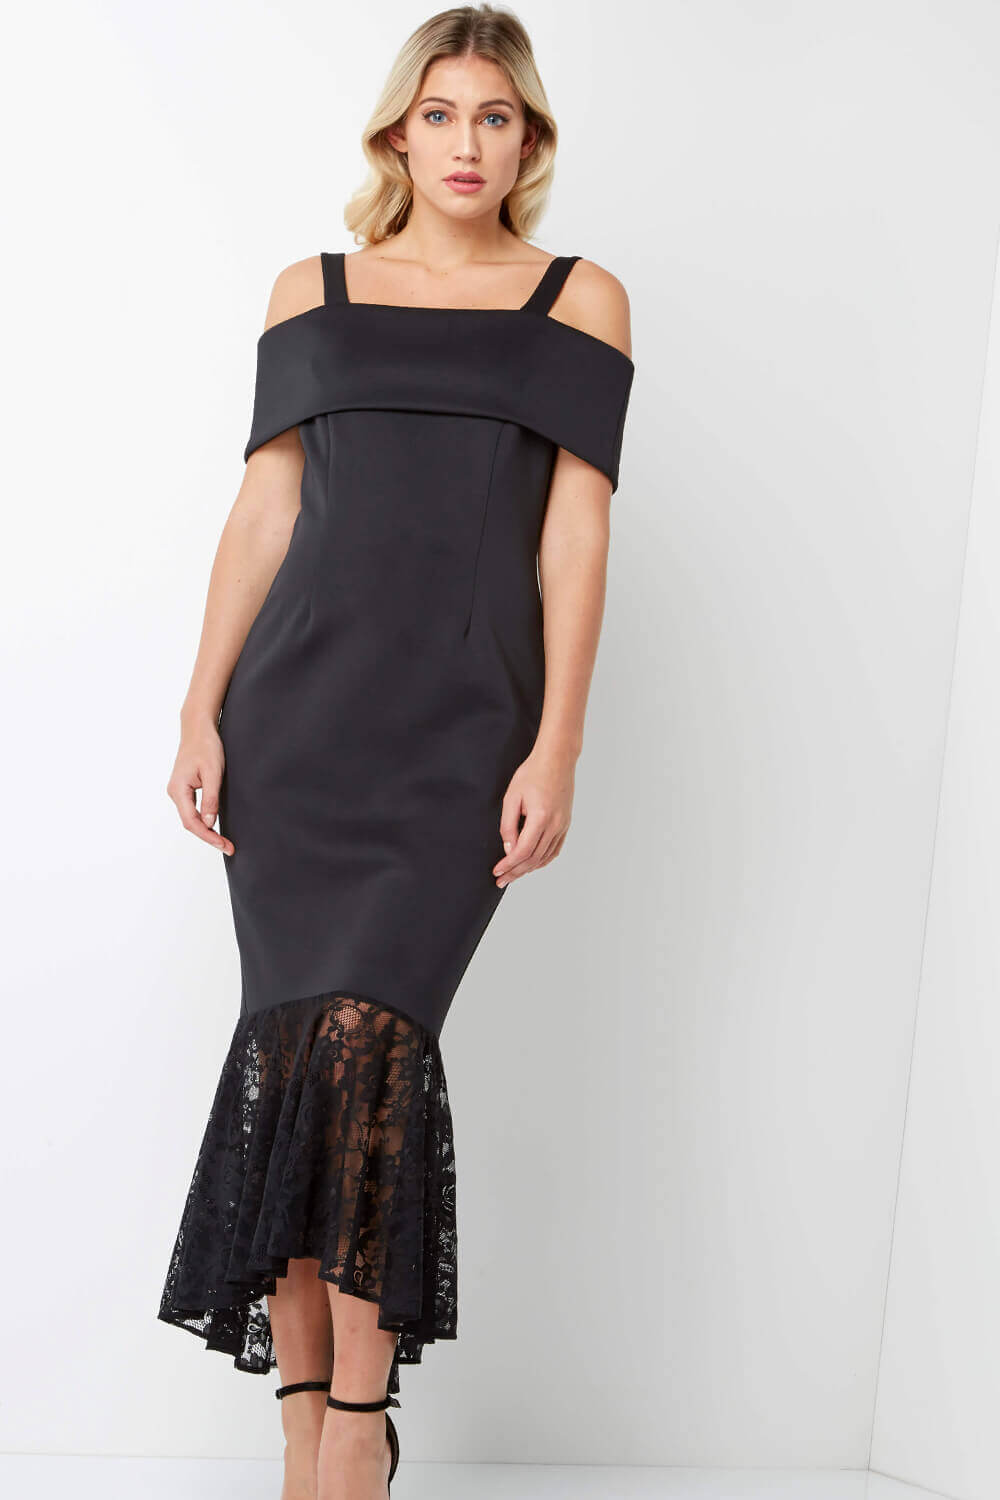S_dress: (186, 270, 640, 1048)
